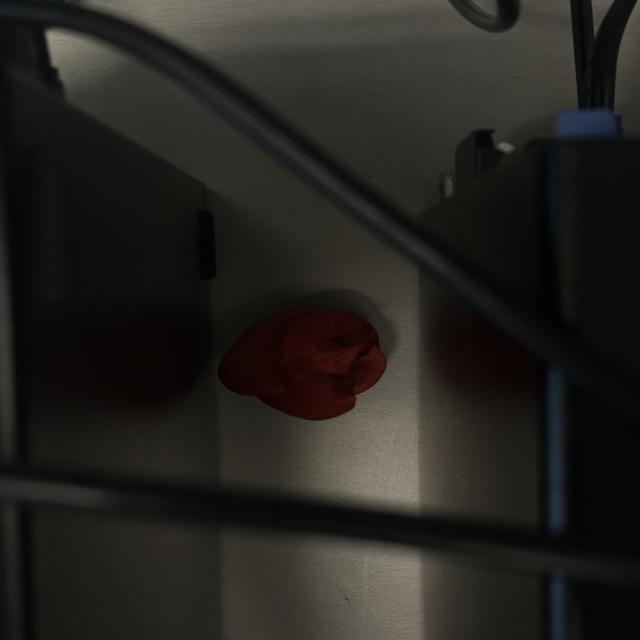fire: (215, 304, 390, 422)
